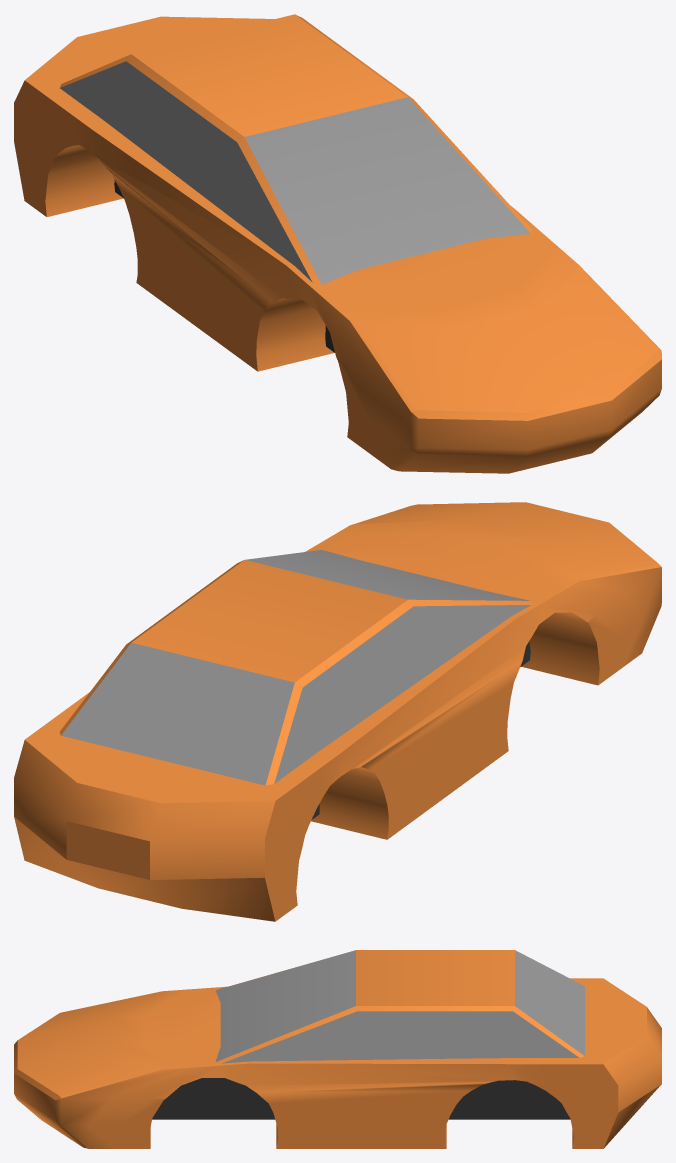
Rendered from car_body.FBX.
3 views of the same model, one above another, from view 1: azimuth 30°, elevation 25°; view 2: azimuth 150°, elevation 25°; view 3: azimuth 270°, elevation 25° (orthographic). The views are drawn at different scales.
Parts seen in each view (by area): view 1: car; view 2: car; view 3: car.
Part boxes in pixels (x1,y1,x2,y2): car: (14, 14, 661, 473); car: (14, 502, 661, 921); car: (14, 950, 661, 1148).
Bounding box in the file's own units: 39.88 × 27.34 × 125.
